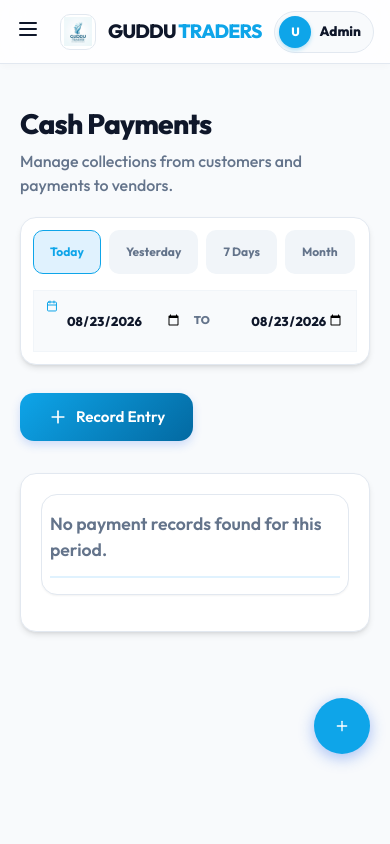
Scenario: Payments Mobile UX › should open record entry modal via FAB
The width and height of the screenshot is (390, 844).
Click the button with test id "record-payment-fab" at coordinates (342, 726), box [314, 698, 370, 754]
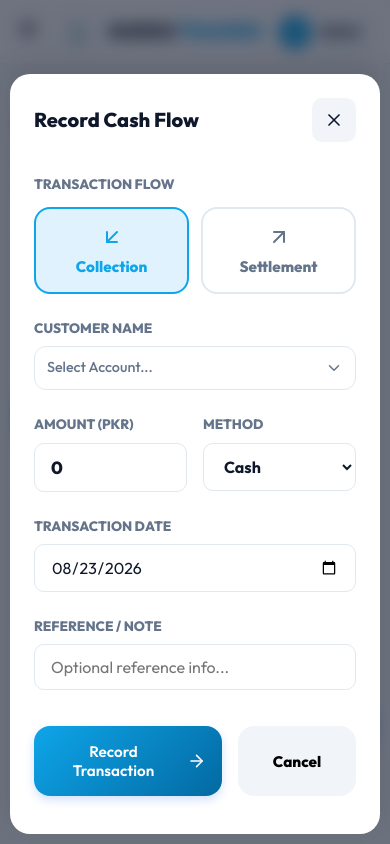
expect the element with class "modal-overlay" is shown: met
expect the heading "Record Cash Flow" is shown: met, box [34, 105, 199, 135]
expect the button "Collection" is shown: met, box [34, 207, 189, 294]
